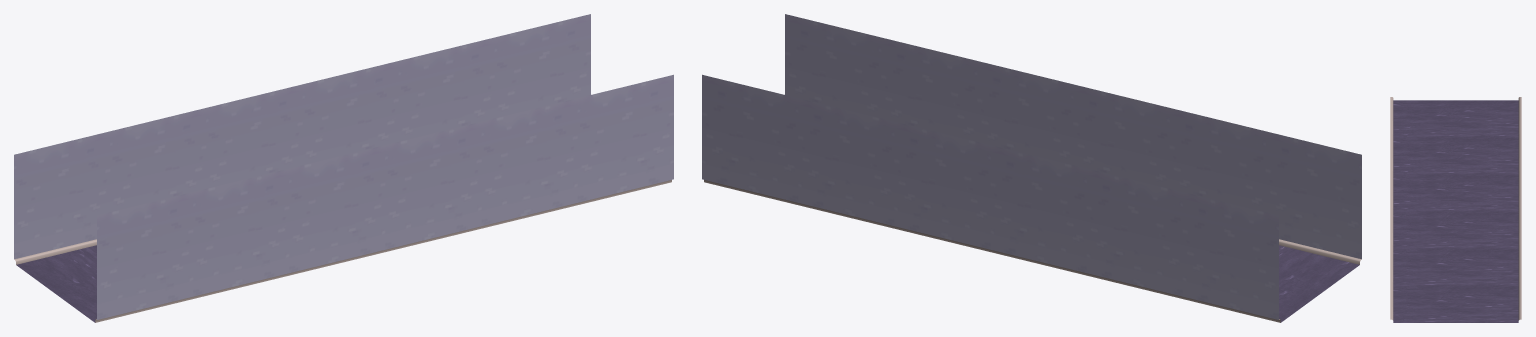
Rendered from wall_test.fbx.
3 renders of one model, left to right at view 1: azimuth 30°, elevation 25°; view 2: azimuth 150°, elevation 25°; view 3: azimuth 270°, elevation 25°, orthographic. The views are drawn at different scales.
Visible parts, largest first — view 1: wall; view 2: wall; view 3: wall.
Boxes of the visible parts, x1,y1,x2,y2 form: wall: [14, 14, 673, 322]; wall: [702, 14, 1361, 322]; wall: [1390, 97, 1521, 322].
Size of the model in its own units: 3793 by 684 by 945.
